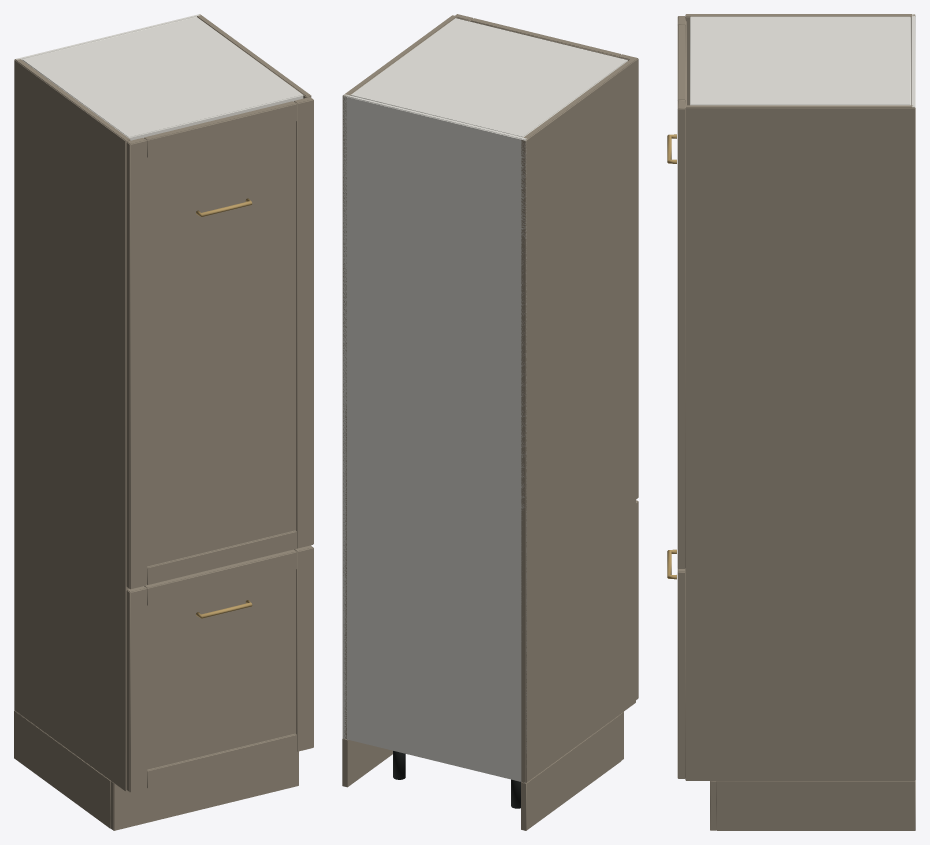
File: traditional.kitchen_tall.gltf
3 views of the same model, side by side, from view 1: azimuth 30°, elevation 25°; view 2: azimuth 150°, elevation 25°; view 3: azimuth 270°, elevation 25° (orthographic). The views are drawn at different scales.
Visible parts, largest first — view 1: traditional.kitchen_tall.back; view 2: traditional.kitchen_tall.back; view 3: traditional.kitchen_tall.back.
Boxes of the visible parts, box(x1,y1,x2,y2) form: traditional.kitchen_tall.back: box(14, 14, 313, 830); traditional.kitchen_tall.back: box(342, 14, 638, 830); traditional.kitchen_tall.back: box(667, 14, 915, 830).
Bounding box in the file's own units: 0.599 × 2.15 × 0.669.
